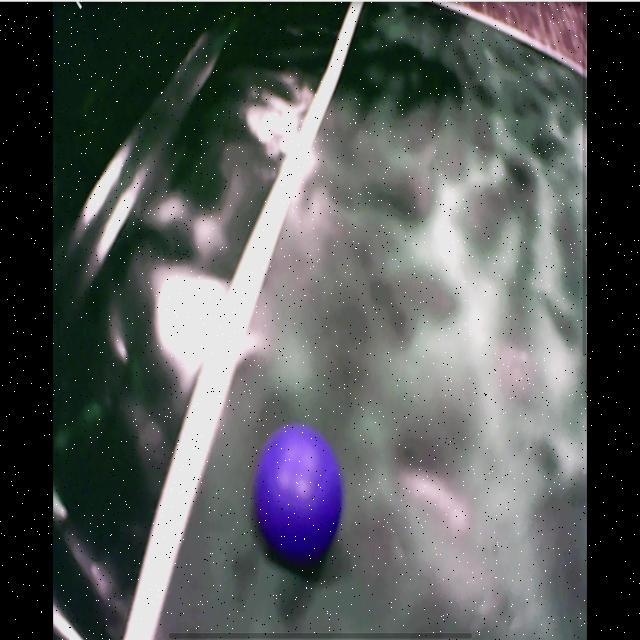ball: (254, 424, 343, 564)
